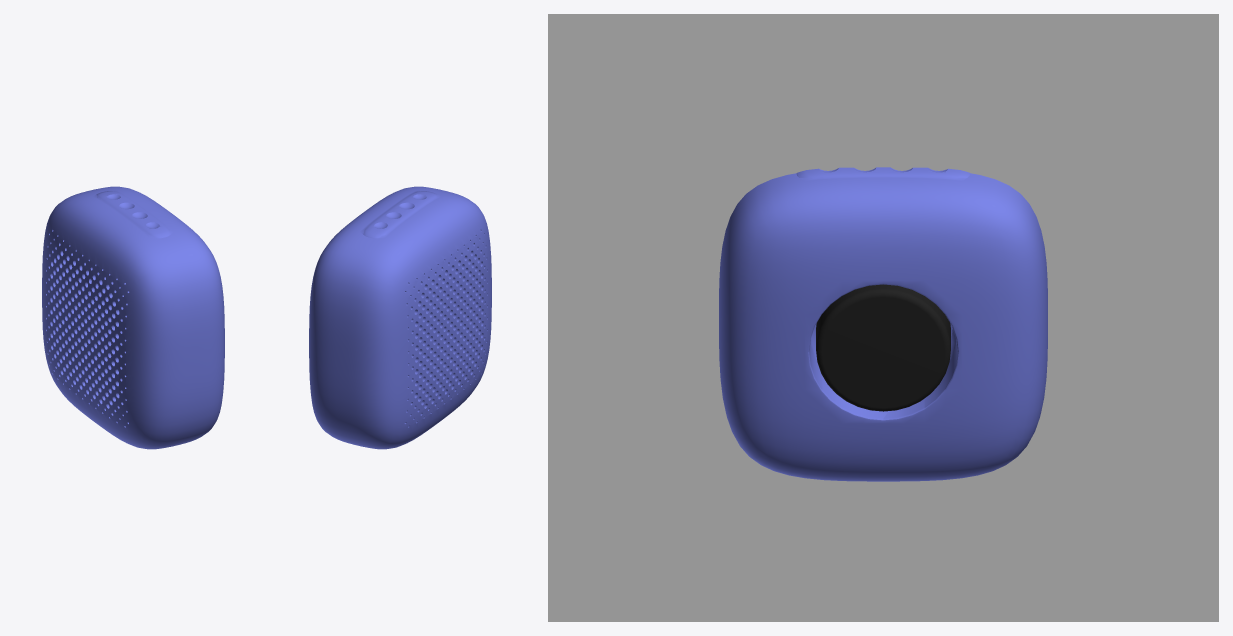
File: speaker10.glb
3 renders of one model, left to right at view 1: azimuth 30°, elevation 25°; view 2: azimuth 150°, elevation 25°; view 3: azimuth 270°, elevation 25°, orthographic. The views are drawn at different scales.
Visible parts, largest first — view 1: Cube; view 2: Cube; view 3: Plane, Cube, Cylinder.001.
Boxes of the visible parts, box(x1,y1,x2,y2) form: Cube: box(42, 186, 224, 449); Cube: box(309, 186, 491, 449); Plane: box(548, 14, 1218, 621); Cube: box(719, 167, 1047, 481); Cylinder.001: box(816, 284, 950, 411).
Size of the model in its own units: 0.05 by 0.2038 by 0.2038.
